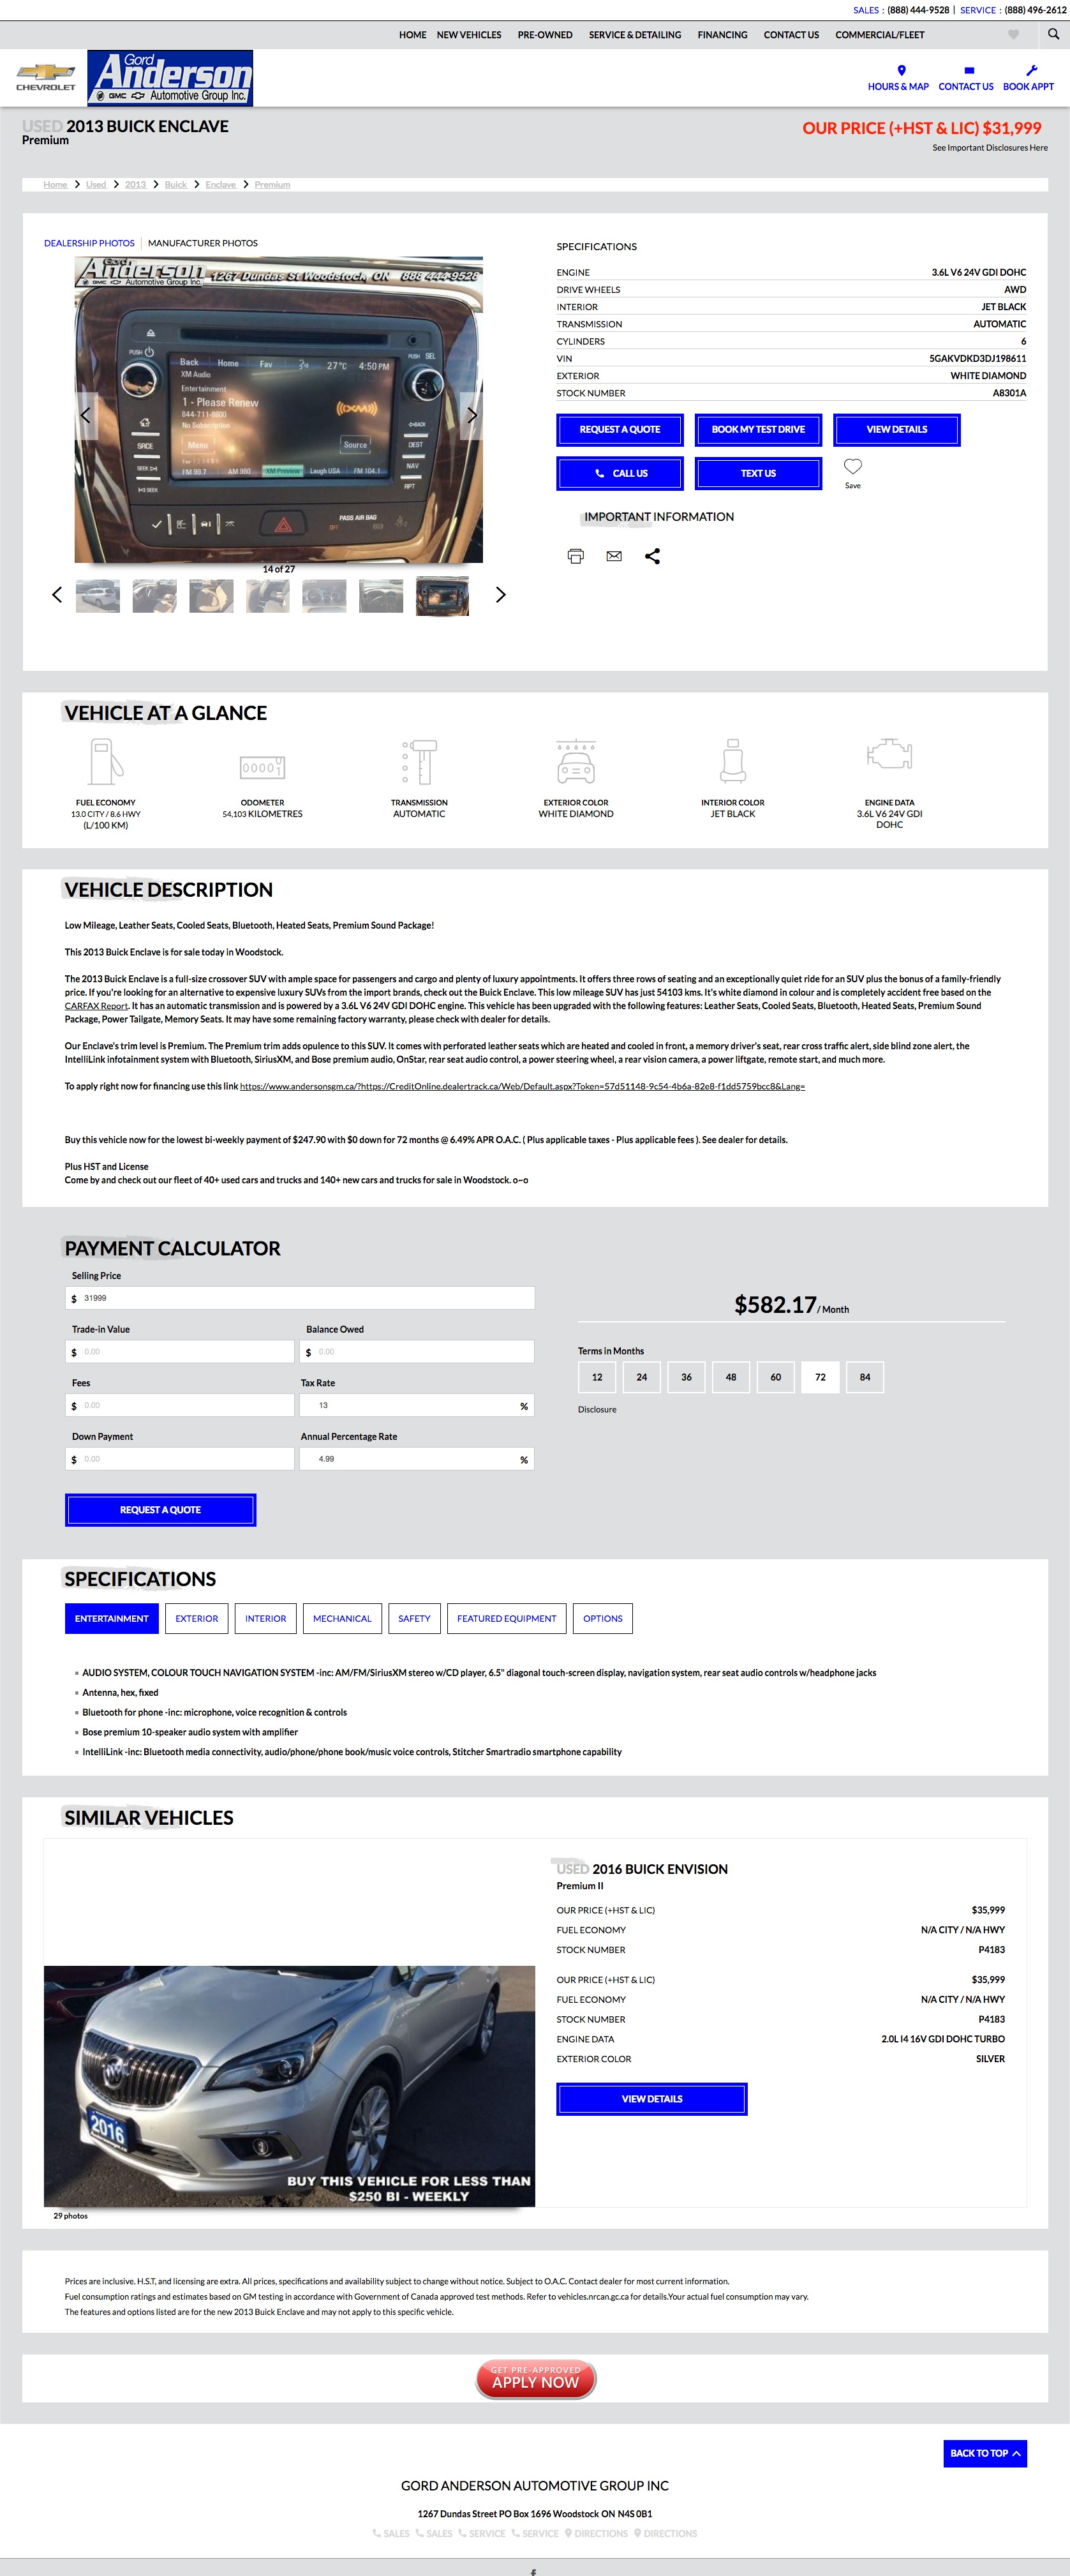car: (494, 586, 507, 605)
